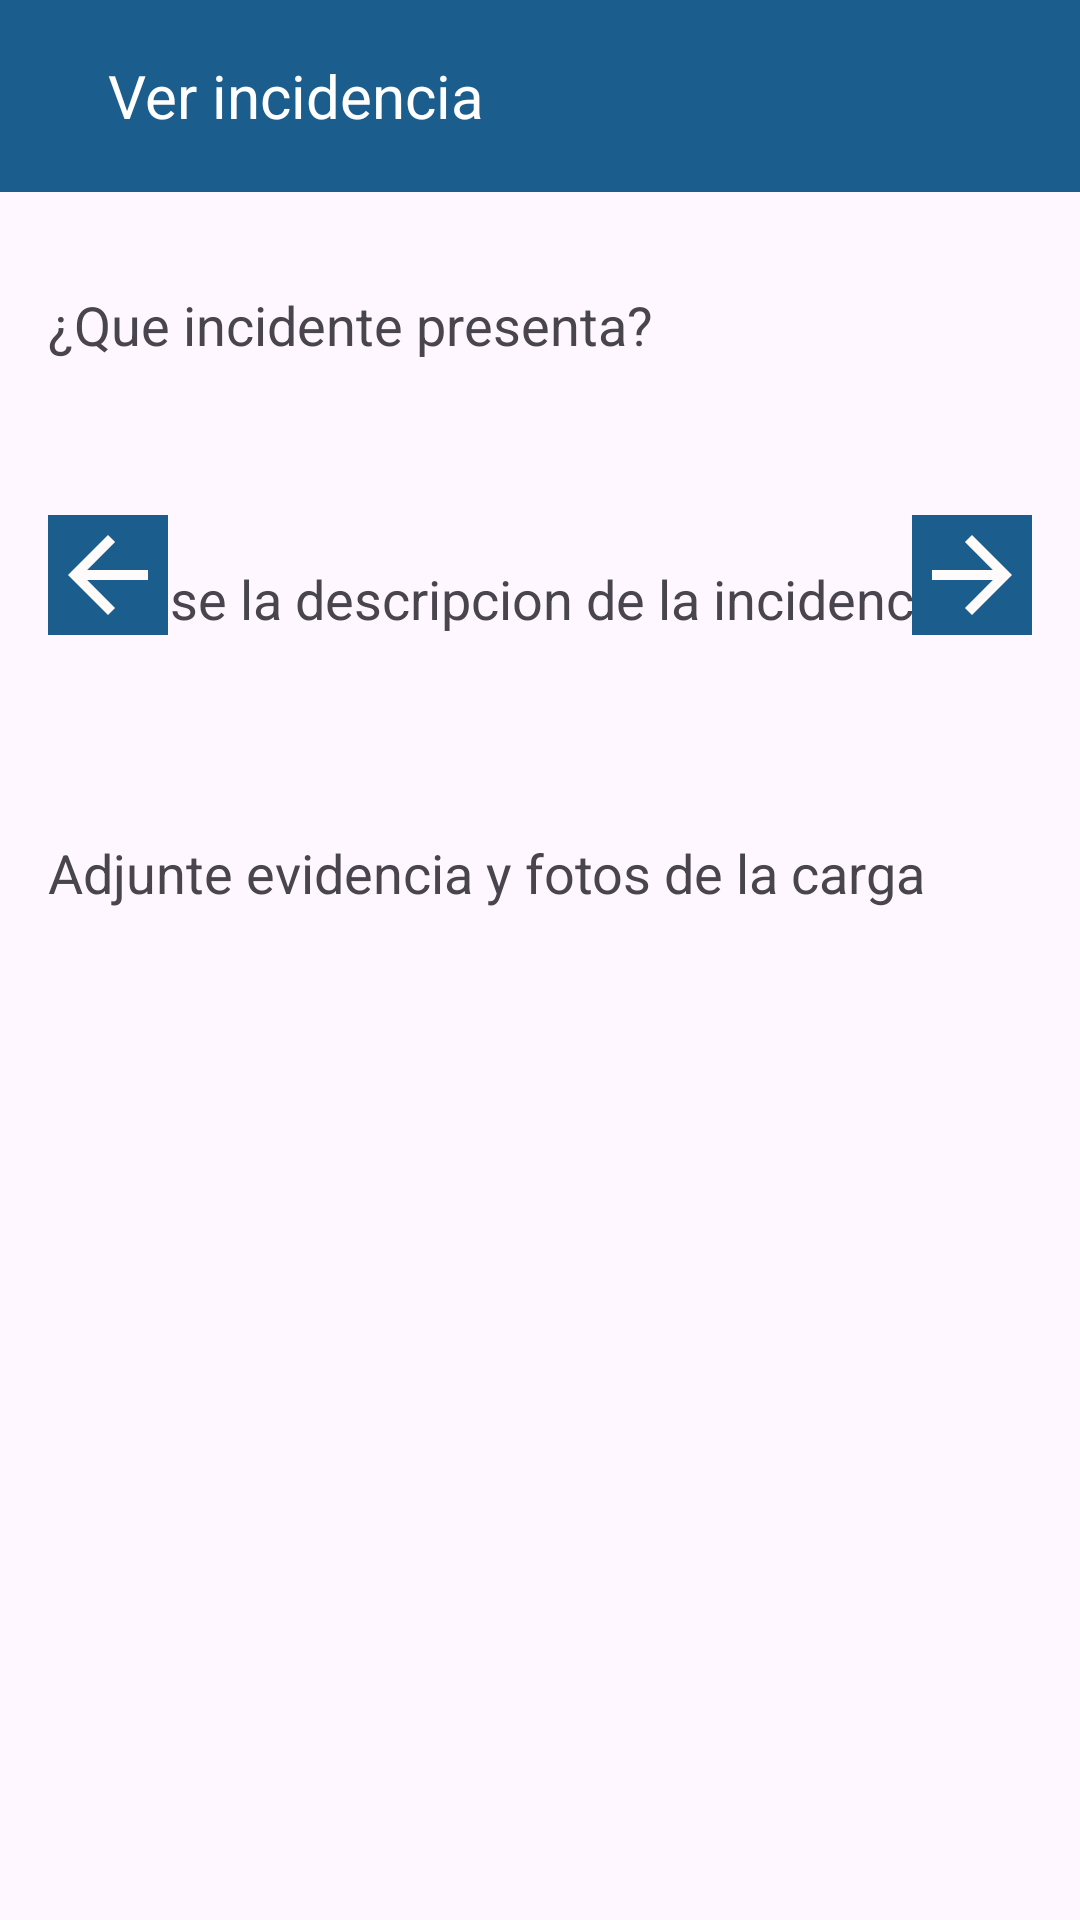

Screen size 1080px x 1920px. Icon name, then its center in pixels as (x=x, y=y):
arrow back: (x=108, y=575)
arrow forward: (x=972, y=575)
